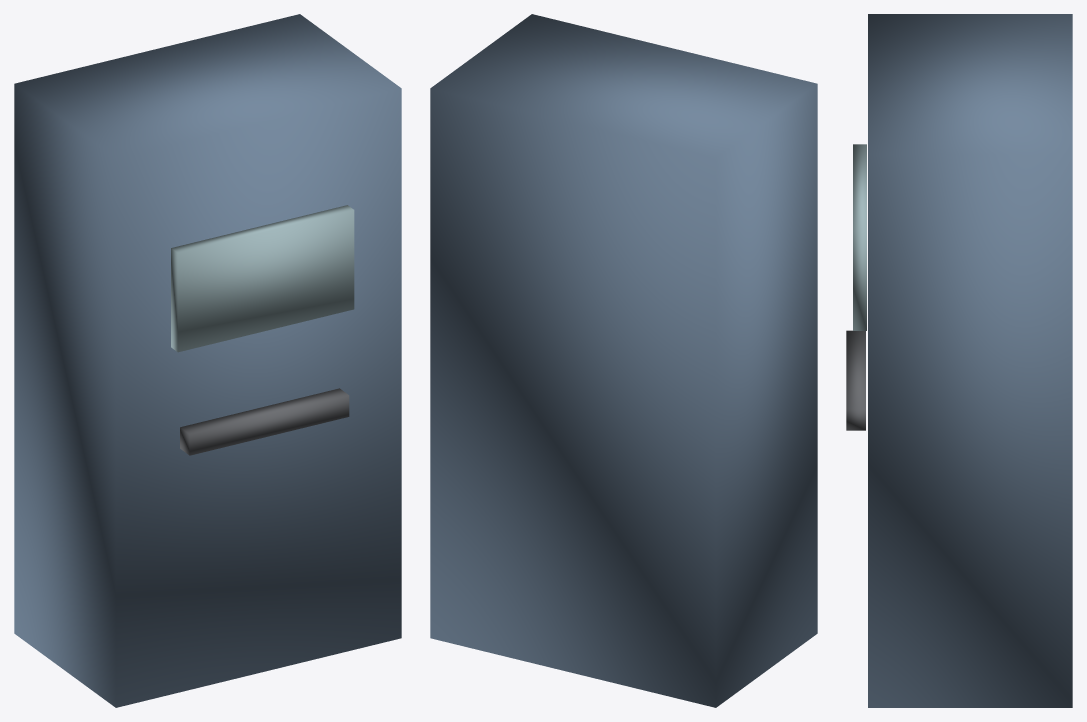
The model's file is information_kiosk__wide.glb.
3 views of the same model, side by side, from view 1: azimuth 30°, elevation 25°; view 2: azimuth 150°, elevation 25°; view 3: azimuth 270°, elevation 25° (orthographic).
Parts seen in each view (by area): view 1: world; view 2: world; view 3: world.
Part boxes in pixels (bbox=[...]): world: bbox=[14, 14, 401, 707]; world: bbox=[430, 14, 817, 707]; world: bbox=[846, 14, 1072, 707].
Bounding box in the file's own units: 0.8432 × 1.55 × 0.575.
